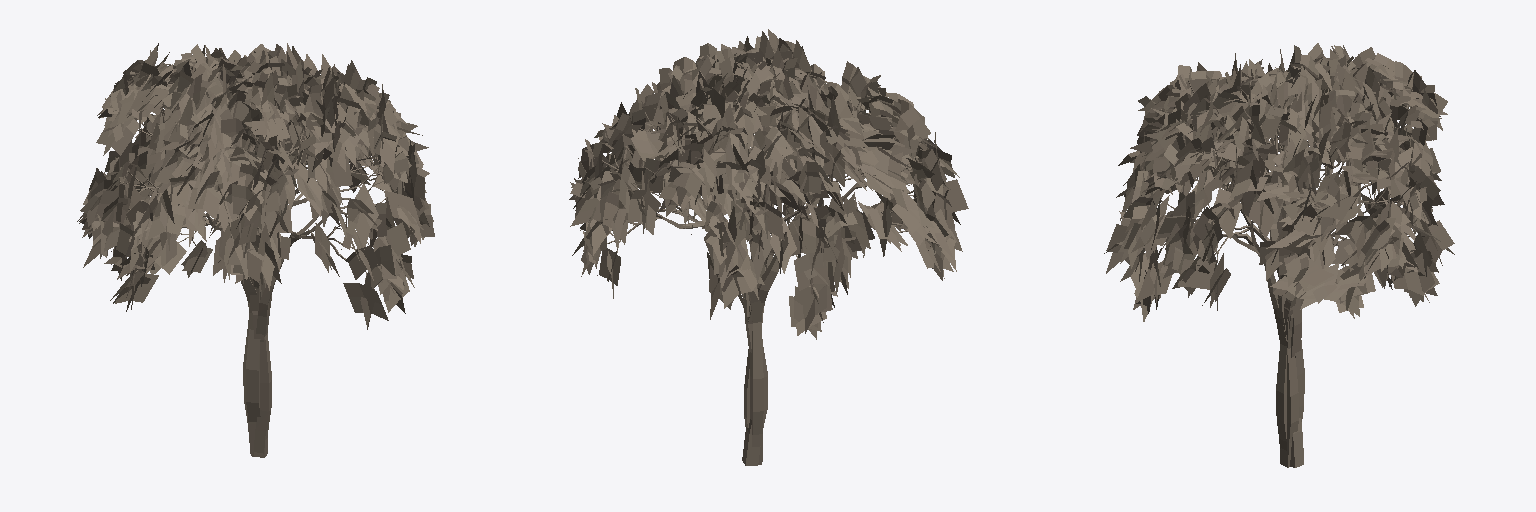
The model's file is Tree1.obj.
The picture shows the model from 3 angles: view 1: azimuth 30°, elevation 25°; view 2: azimuth 150°, elevation 25°; view 3: azimuth 270°, elevation 25°; orthographic projection.
Visible parts, largest first — view 1: Gnarly_t; view 2: Gnarly_t; view 3: Gnarly_t.
Boxes of the visible parts, x1=… form: Gnarly_t: x1=77, y1=43, x2=434, y2=457; Gnarly_t: x1=569, y1=29, x2=968, y2=465; Gnarly_t: x1=1104, y1=43, x2=1454, y2=467.
Size of the model in its own units: 22.66 by 24.69 by 19.21.